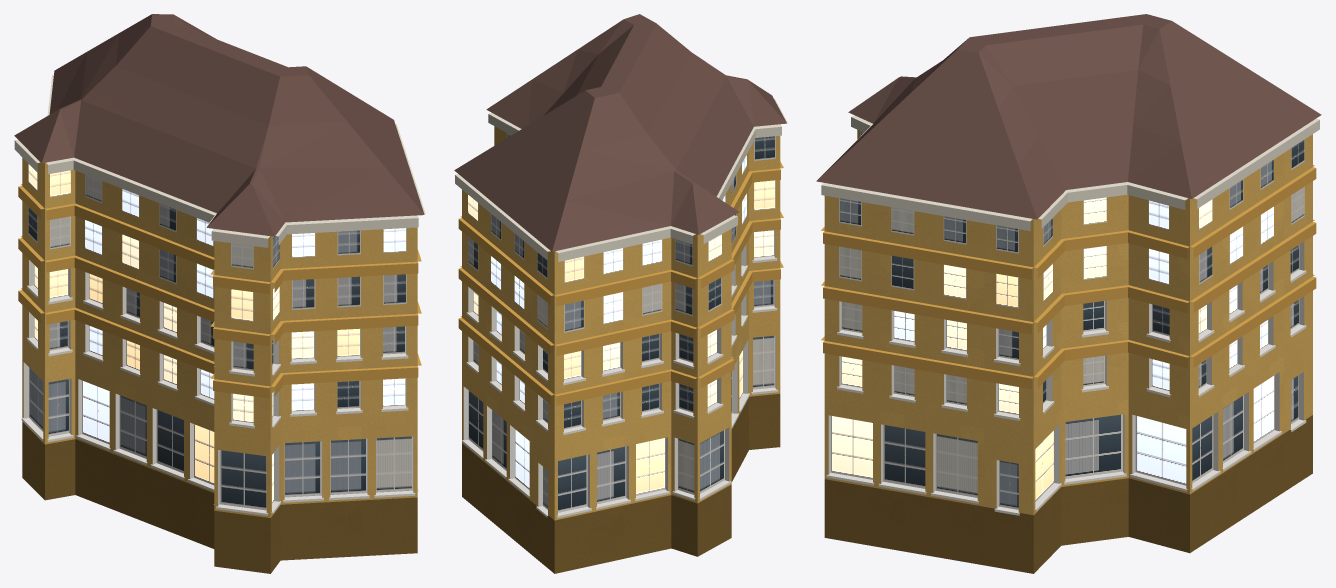
File: z3c_hb_yellow.glb
3 renders of one model, left to right at view 1: azimuth 30°, elevation 25°; view 2: azimuth 150°, elevation 25°; view 3: azimuth 270°, elevation 25°, orthographic. The views are drawn at different scales.
Visible parts, largest first — view 1: z3c_hb_yellow; view 2: z3c_hb_yellow; view 3: z3c_hb_yellow.
Boxes of the visible parts, x1,y1,x2,y2 form: z3c_hb_yellow: [14, 14, 425, 573]; z3c_hb_yellow: [454, 14, 787, 573]; z3c_hb_yellow: [816, 14, 1321, 573].
Bounding box in the file's own units: 17.44 × 23.8 × 23.43.
Materials: 3 (3 with a texture image).
